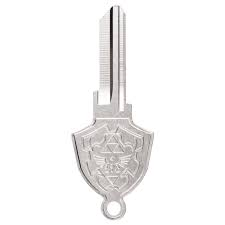kicharina: (70, 2, 158, 221)
